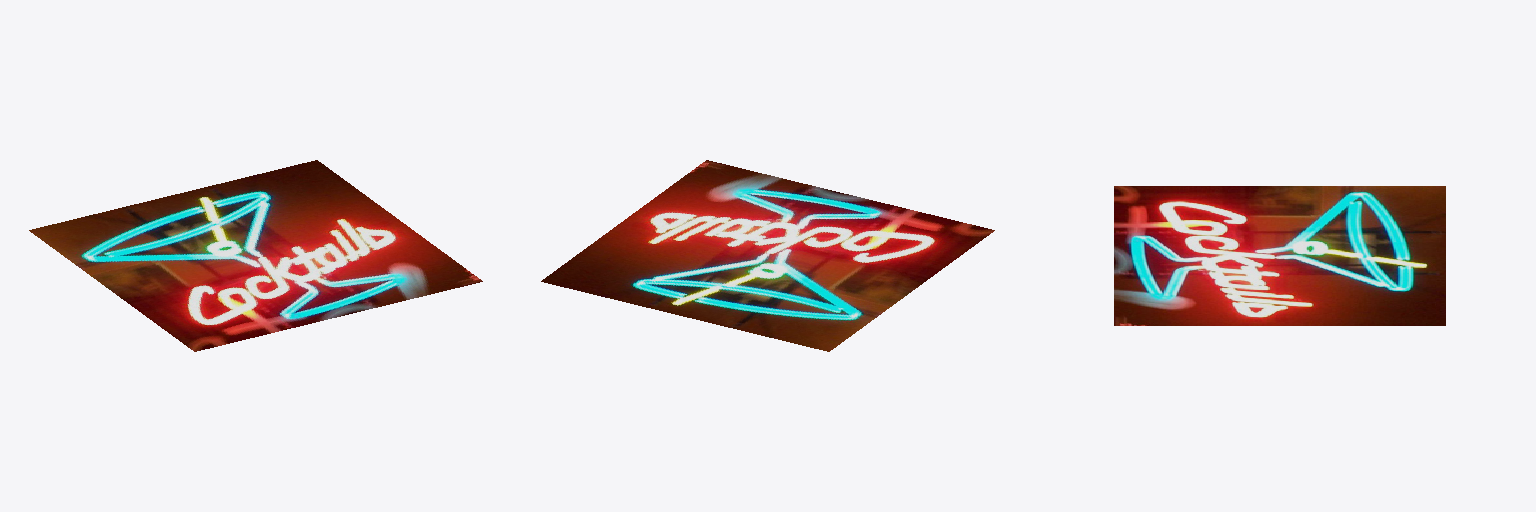
The picture shows the model from 3 angles: view 1: azimuth 30°, elevation 25°; view 2: azimuth 150°, elevation 25°; view 3: azimuth 270°, elevation 25°; orthographic projection.
Parts seen in each view (by area): view 1: Plane01; view 2: Plane01; view 3: Plane01.
Boxes of the visible parts, box(x1,y1,x2,y2) form: Plane01: box(29, 160, 482, 351); Plane01: box(541, 160, 994, 351); Plane01: box(1114, 186, 1445, 325).
Bounding box in the file's own units: 26.47 × 0 × 26.39.
Materials: 1 (1 with a texture image).